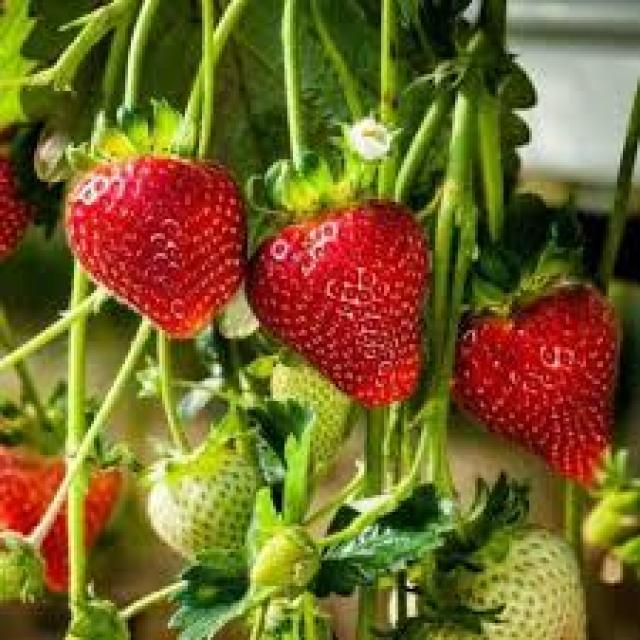immature: (417, 532, 585, 640), (148, 452, 258, 570), (271, 362, 356, 462)
mature: (246, 197, 430, 406), (453, 281, 623, 487), (67, 152, 248, 340), (0, 426, 122, 592)
